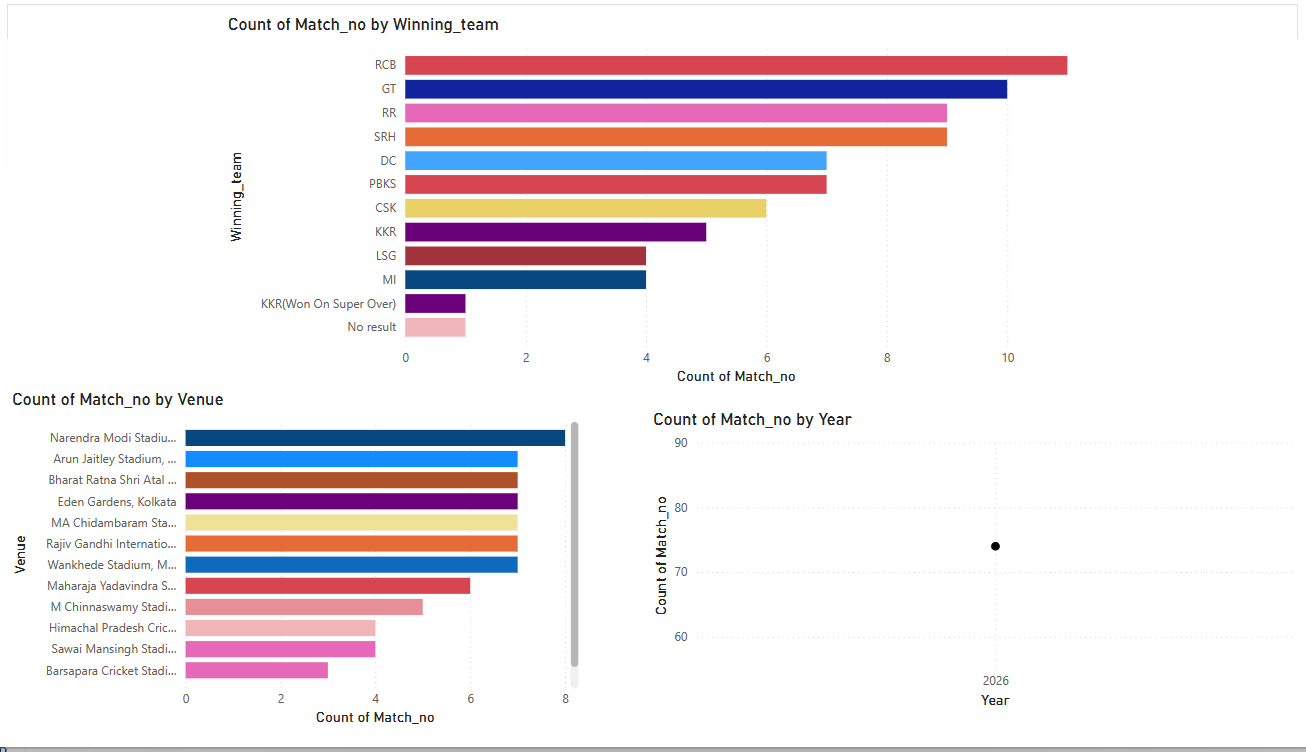

What the dashboard file says about the page in this screenshot:
{"tool":"powerbi","page":{"name":"TournmentOverview","canvas":[1280,720],"ordinal":0},"visuals":[{"type":"clusteredBarChart","fields":{"Category":["match_data.Winning_team"],"Y":["CountNonNull(match_data.Match_no)"]},"box":[213.7,9.7,850.1,372.4],"z":0},{"type":"barChart","fields":{"Category":["match_data.Venue"],"Y":["CountNonNull(match_data.Match_no)"]},"box":[0,382.1,571.6,338.4],"z":1000},{"type":"lineChart","fields":{"Category":["match_data.Date.Variation.Date Hierarchy.Year","match_data.Date.Variation.Date Hierarchy.Quarter","match_data.Date.Variation.Date Hierarchy.Month","match_data.Date.Variation.Date Hierarchy.Day"],"Y":["CountNonNull(match_data.Match_no)"]},"box":[636.4,401.6,644.5,301.2],"z":2000}]}

Visuals, with their boxes in screenshot pixels (x1, y1, x2, y2), scaled from the page's 1280x720 canvas onto the 1306x752 screenshot:
clusteredBarChart - match_data.Winning_team x CountNonNull(match_data.Match_no): <region>218, 10, 1085, 399</region>
barChart - match_data.Venue x CountNonNull(match_data.Match_no): <region>0, 399, 583, 751</region>
lineChart - match_data.Date.Variation.Date Hierarchy.Year x match_data.Date.Variation.Date Hierarchy.Quarter: <region>649, 419, 1305, 734</region>
